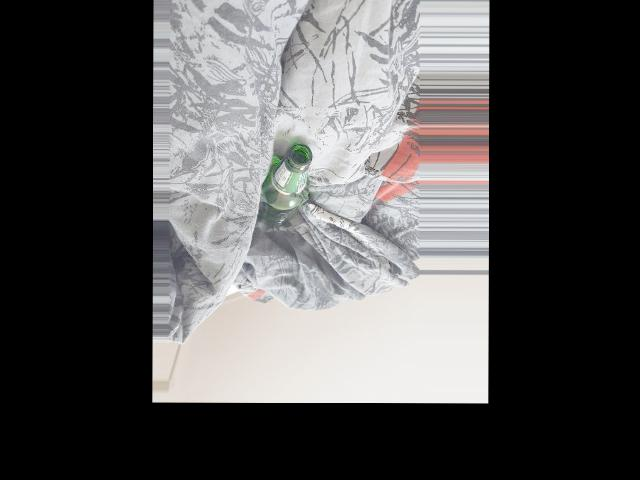beer: (261, 143, 310, 225)
